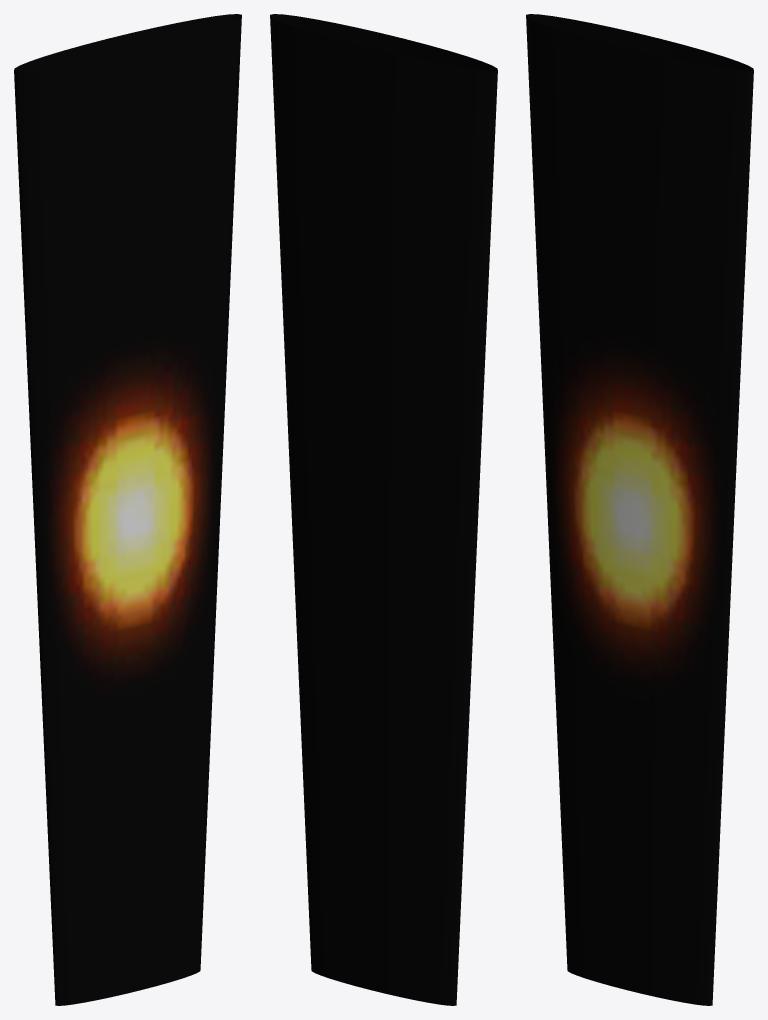
File: 0401_qiyuan.glb
The picture shows the model from 3 angles, left to right: view 1: azimuth 30°, elevation 25°; view 2: azimuth 150°, elevation 25°; view 3: azimuth 330°, elevation 25°; orthographic projection.
Size of the model in its own units: 0.5553 by 2.2 by 0.0758.
Materials: 1 (1 with a texture image).
